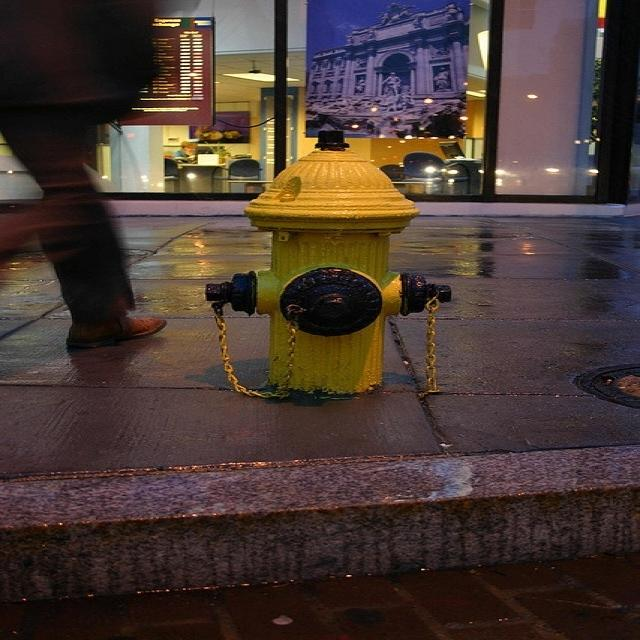fire_hydrant: (205, 127, 439, 412)
